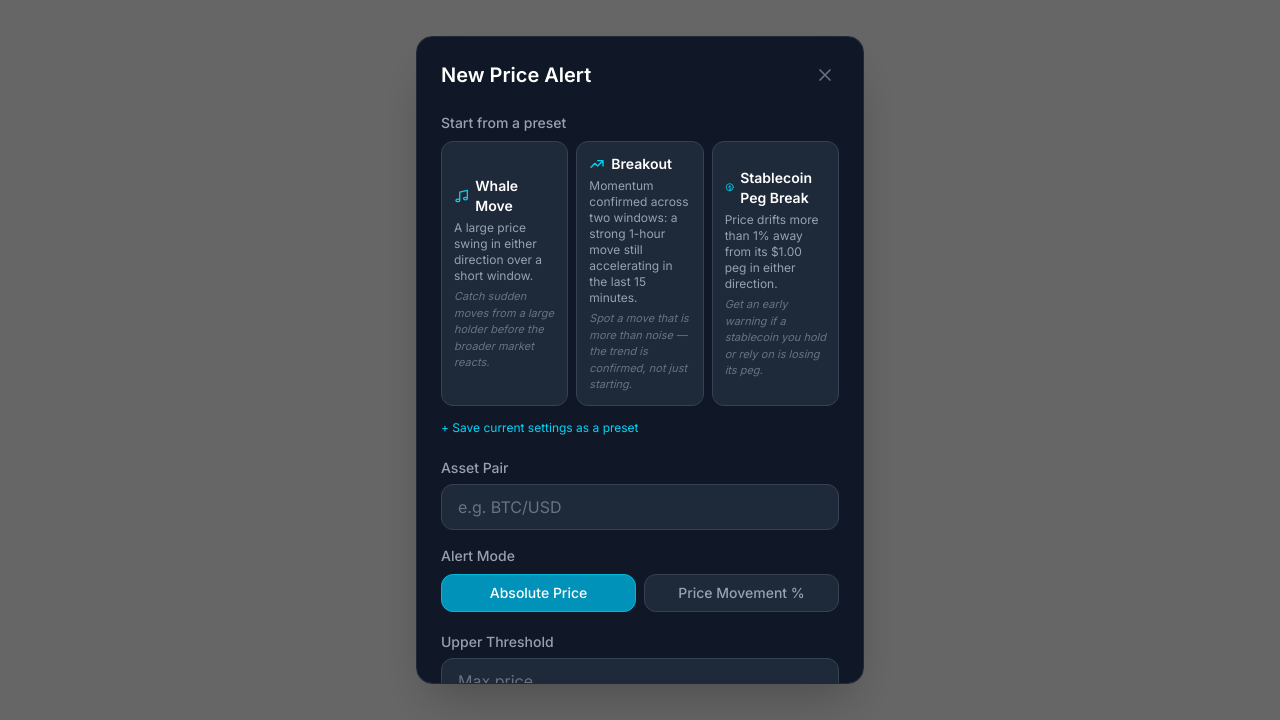
Test: AlertModal › shows validation error for negative upper threshold
The width and height of the screenshot is (1280, 720).
Type "BTC/USD" into the field labelled "Asset Pair". click: (640, 506)
box: [441,484,839,530]
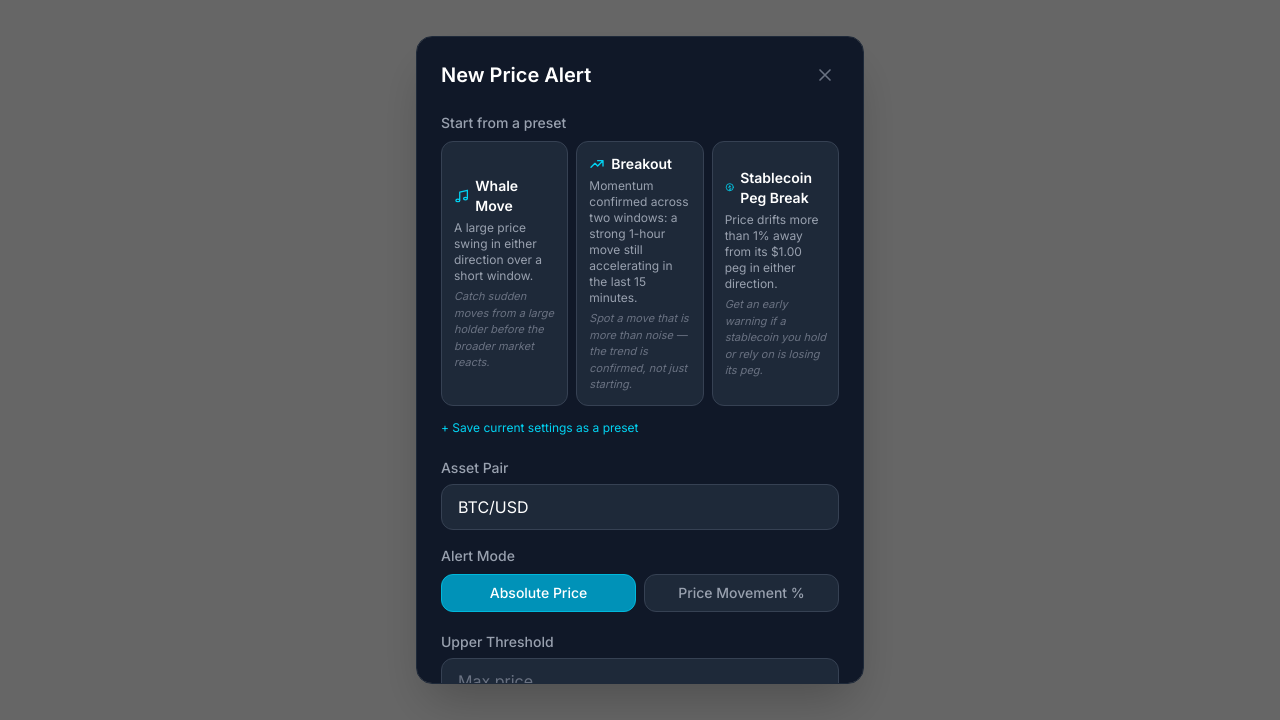
Type "-100" into the number field labelled "Upper Threshold". click: (640, 680)
box: [441,658,839,704]
(page scrolled)
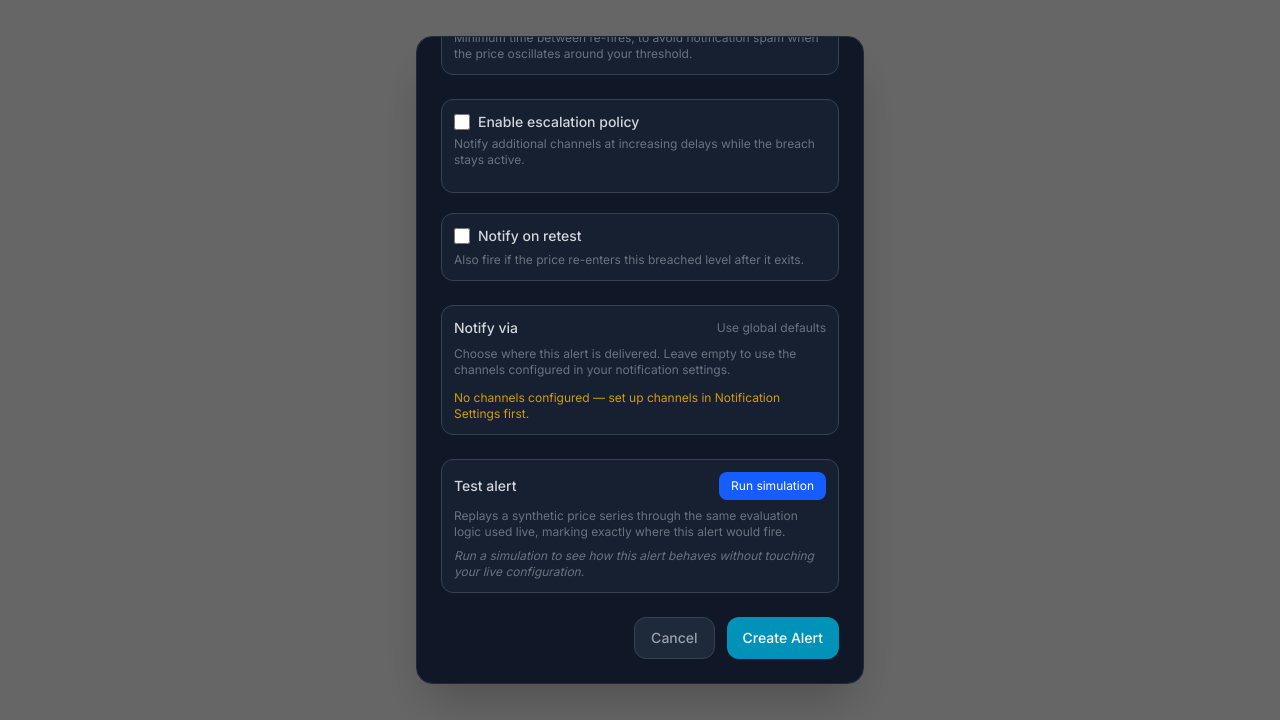
Click the button "Create Alert". click: (783, 638)
box: [727,616,839,658]
(page scrolled)
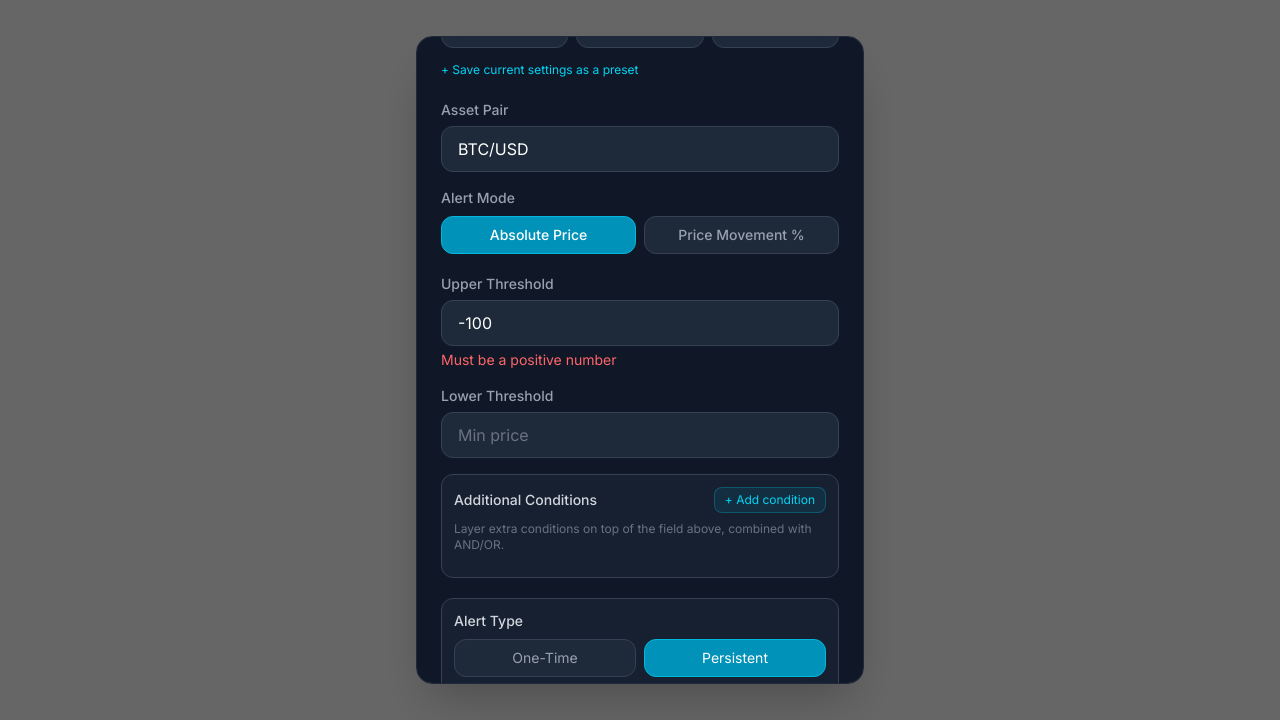
Result: the text "Must be a positive number" is shown at [441,350,616,368]
